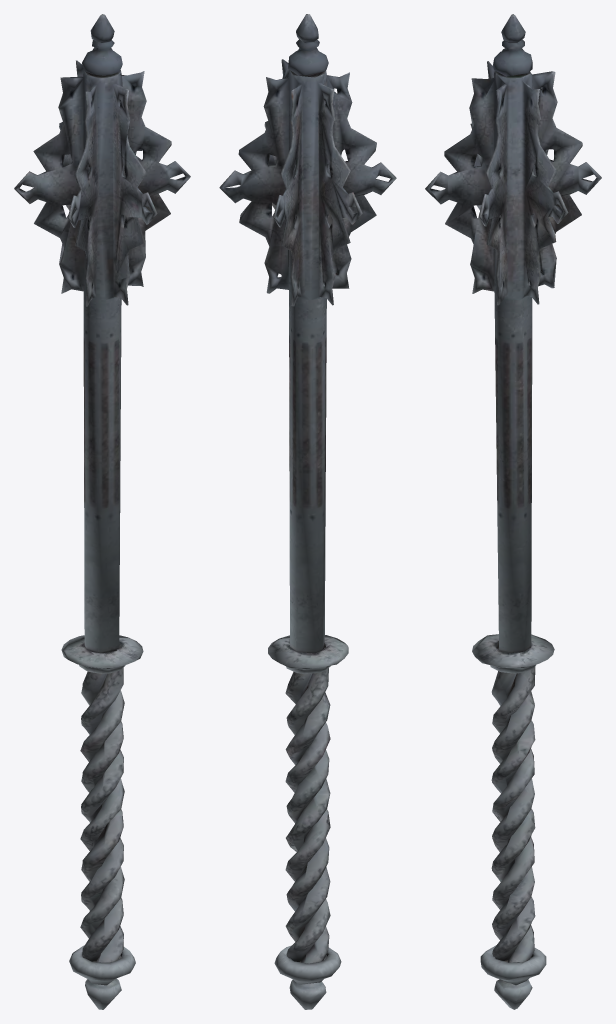
File: ornate_medieval_mace.glb
The picture shows the model from 3 angles, left to right: view 1: azimuth 30°, elevation 25°; view 2: azimuth 150°, elevation 25°; view 3: azimuth 270°, elevation 25°; orthographic projection.
Parts seen in each view (by area): view 1: ornate_medieval_mace; view 2: ornate_medieval_mace; view 3: ornate_medieval_mace.
Boxes of the visible parts, x1,y1,x2,y2 form: ornate_medieval_mace: [14, 14, 190, 1009]; ornate_medieval_mace: [219, 14, 396, 1009]; ornate_medieval_mace: [425, 14, 601, 1009].
Bounding box in the file's own units: 0.0949 × 0.6287 × 0.1015.
1 material, 1 textured.
